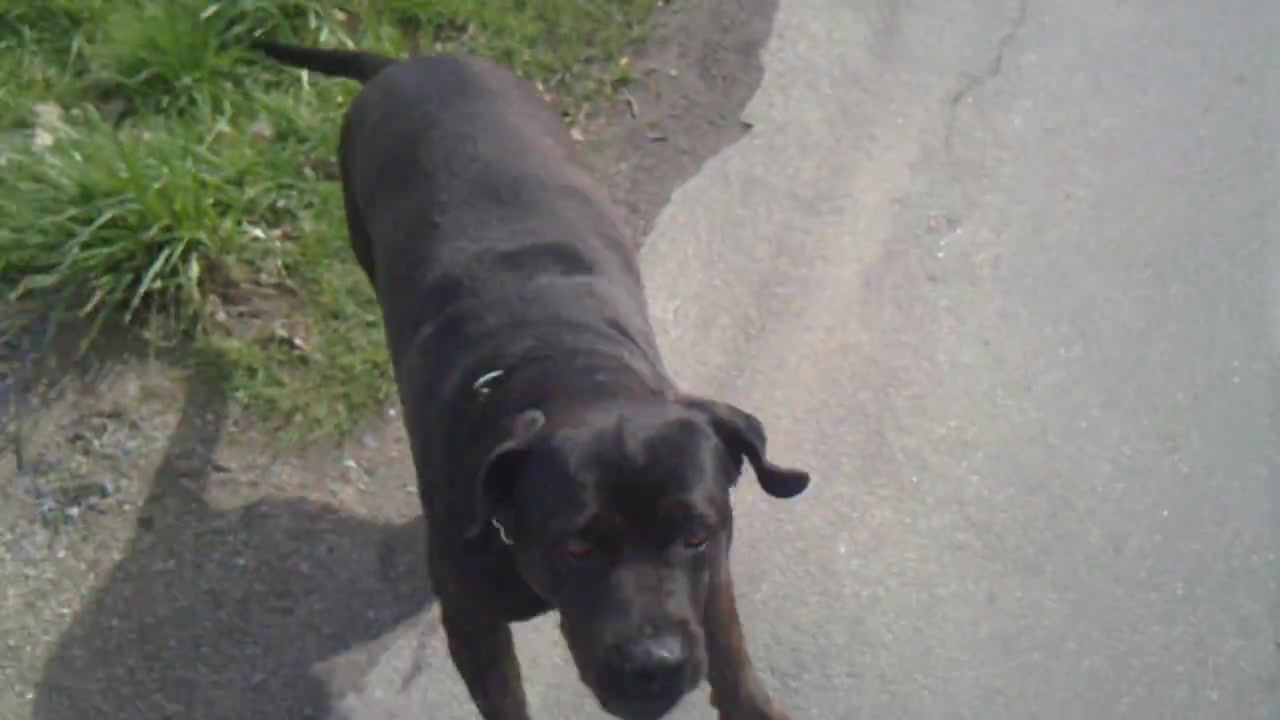dog: (252, 35, 812, 720)
